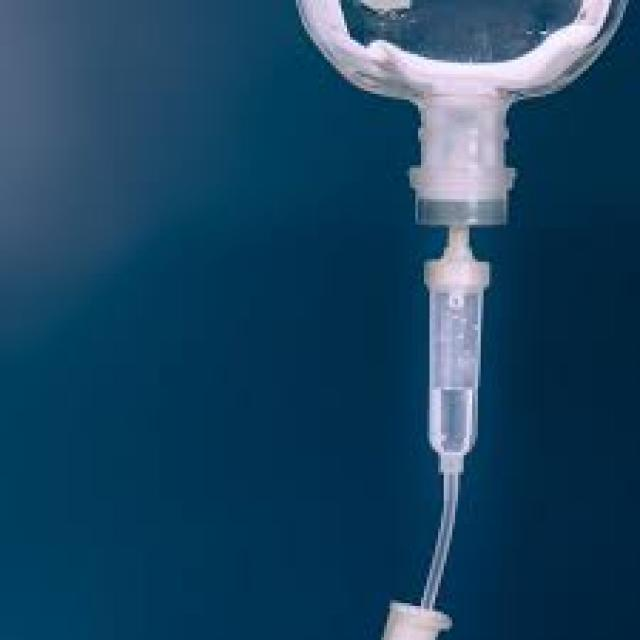iv_fluids: (339, 43, 559, 620)
